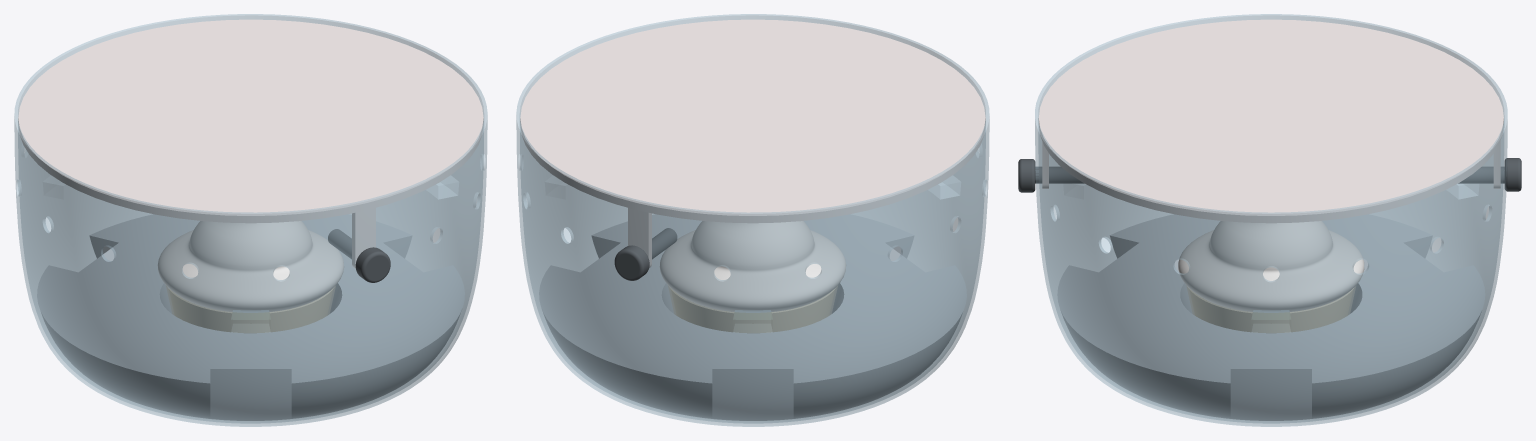
Rendered from Cupcake Insert.obj.
The picture shows the model from 3 angles, left to right: view 1: azimuth 30°, elevation 25°; view 2: azimuth 150°, elevation 25°; view 3: azimuth 270°, elevation 25°; orthographic projection.
Visible parts, largest first — view 1: mesh58, mesh21, mesh39, mesh19, mesh56, mesh80, mesh1, mesh90, mesh20, mesh40, mesh82, mesh59 (+5 smaller); view 2: mesh58, mesh21, mesh39, mesh19, mesh56, mesh80, mesh1, mesh90, mesh20, mesh40, mesh81, mesh59 (+5 smaller); view 3: mesh58, mesh21, mesh39, mesh19, mesh80, mesh56, mesh1, mesh90, mesh20, mesh40, mesh83, mesh59 (+4 smaller).
Boxes of the visible parts, x1,y1,x2,y2 form: mesh58: [18, 19, 483, 215]; mesh21: [14, 14, 487, 321]; mesh39: [18, 15, 483, 319]; mesh19: [19, 217, 482, 426]; mesh56: [23, 217, 478, 423]; mesh80: [37, 214, 464, 383]; mesh1: [157, 221, 344, 312]; mesh90: [41, 313, 460, 420]; mesh20: [18, 202, 483, 334]; mesh40: [22, 231, 479, 331]; mesh82: [210, 369, 291, 420]; mesh59: [18, 118, 483, 223]; mesh58: [520, 19, 985, 215]; mesh21: [516, 14, 989, 321]; mesh39: [520, 15, 985, 319]; mesh19: [521, 217, 984, 426]; mesh56: [525, 217, 980, 423]; mesh80: [539, 214, 966, 383]; mesh1: [659, 221, 846, 312]; mesh90: [543, 313, 962, 420]; mesh20: [520, 202, 985, 334]; mesh40: [524, 231, 981, 331]; mesh81: [712, 369, 793, 420]; mesh59: [520, 118, 985, 223]; mesh58: [1039, 19, 1503, 215]; mesh21: [1035, 14, 1507, 321]; mesh39: [1038, 15, 1504, 319]; mesh19: [1039, 207, 1502, 426]; mesh80: [1057, 214, 1485, 383]; mesh56: [1043, 207, 1498, 423]; mesh1: [1178, 221, 1364, 312]; mesh90: [1061, 311, 1481, 420]; mesh20: [1038, 211, 1503, 334]; mesh40: [1042, 226, 1500, 331]; mesh83: [1230, 369, 1311, 420]; mesh59: [1038, 118, 1503, 223].
Size of the model in its own units: 0.1778 by 0.1016 by 0.189.
